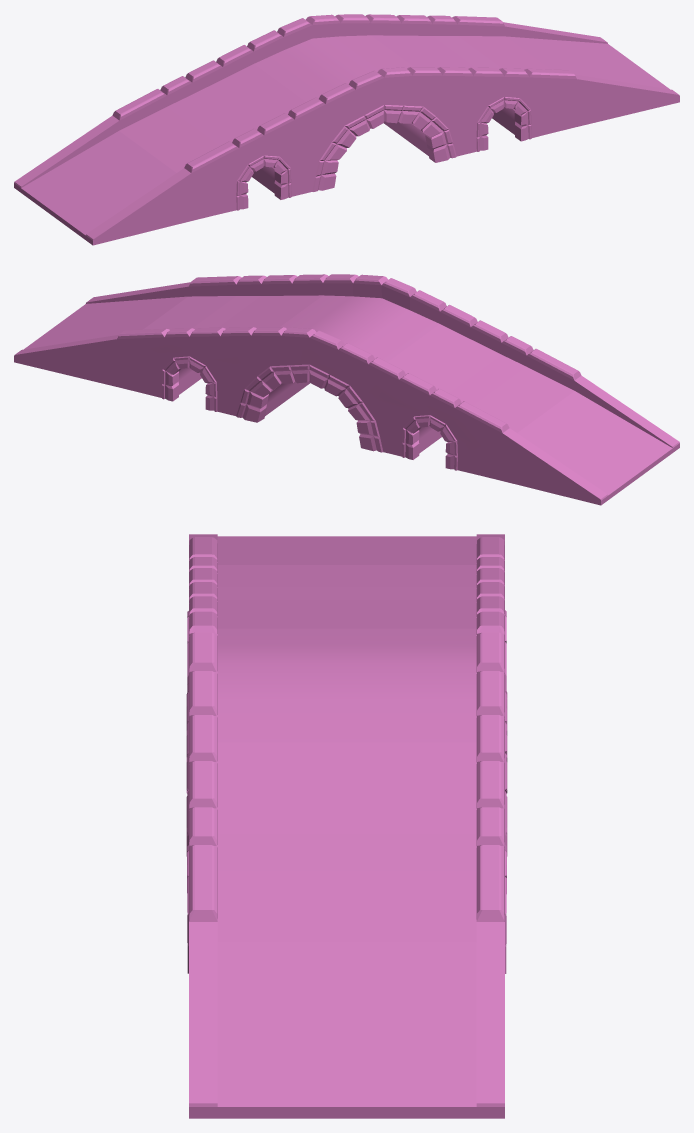
Rendered from Puente001.fbx.
3 views of the same model, one above another, from view 1: azimuth 30°, elevation 25°; view 2: azimuth 150°, elevation 25°; view 3: azimuth 270°, elevation 25° (orthographic). The views are drawn at different scales.
Visible parts, largest first — view 1: Puente001; view 2: Puente001; view 3: Puente001.
Boxes of the visible parts, x1,y1,x2,y2 form: Puente001: (14, 14, 679, 245); Puente001: (14, 274, 679, 505); Puente001: (186, 534, 507, 1118).
Bounding box in the file's own units: 489 × 80.54 × 116.
